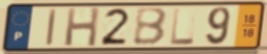2: (101, 6, 132, 47)
9: (203, 6, 234, 47)
B: (132, 6, 169, 47)
H: (63, 6, 102, 49)
I: (44, 8, 58, 48)
L: (169, 6, 197, 47)
